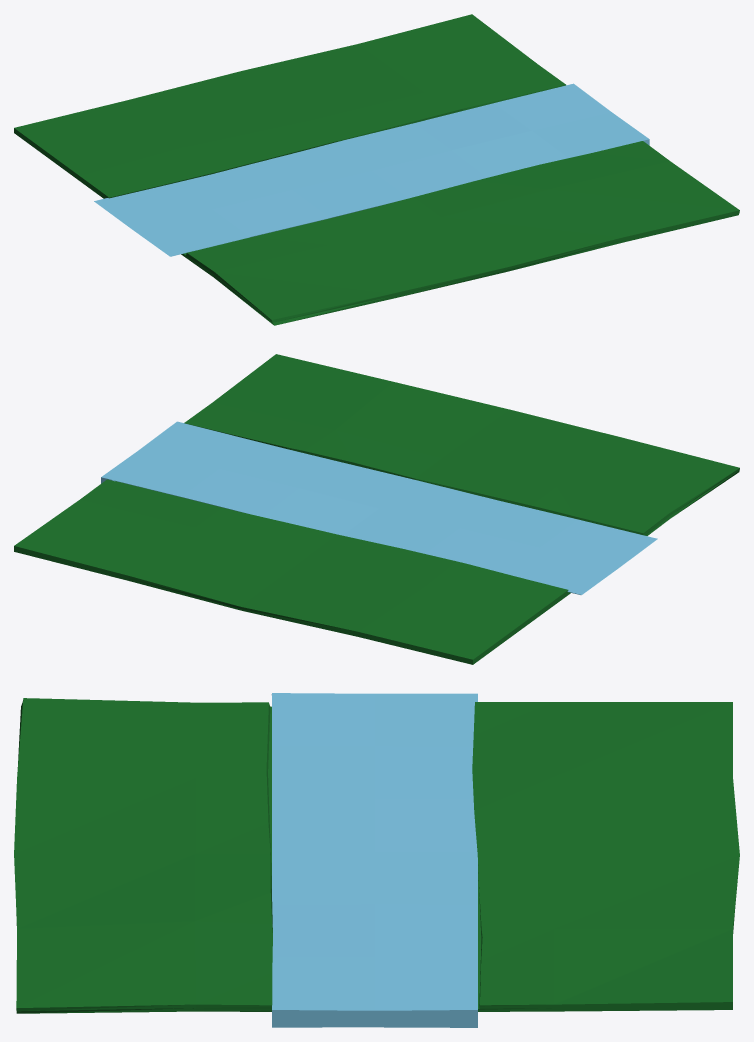
The model's file is platform.glb.
3 views of the same model, one above another, from view 1: azimuth 30°, elevation 25°; view 2: azimuth 150°, elevation 25°; view 3: azimuth 270°, elevation 25° (orthographic). The views are drawn at different scales.
Visible parts, largest first — view 1: Cube, Plane; view 2: Cube, Plane; view 3: Cube, Plane.
Part boxes in pixels (<box>): Cube: <box>14,14,739,325</box>; Plane: <box>94,83,649,256</box>; Cube: <box>14,354,739,664</box>; Plane: <box>101,421,657,594</box>; Cube: <box>14,698,739,1013</box>; Plane: <box>271,693,477,1027</box>.
Size of the model in its own units: 72.87 by 2.26 by 70.53.
